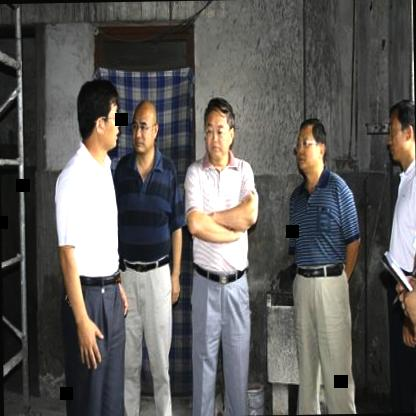head: (73, 74, 123, 158), (199, 92, 238, 162), (292, 114, 330, 182), (385, 93, 415, 168), (130, 97, 160, 158)
